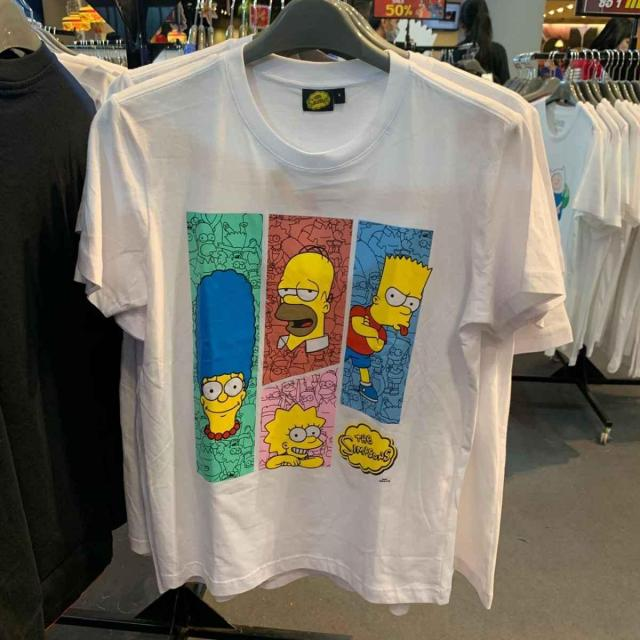Tshirt: (84, 49, 562, 602)
